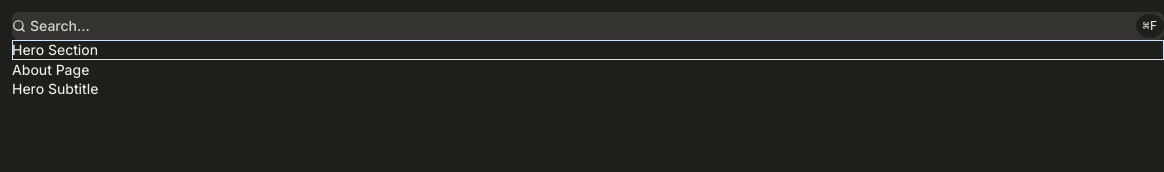
Scenario: Aria.Search integration › no matching query shows 0 items
Step 1. Type keys "{Control>}f{/Control}"
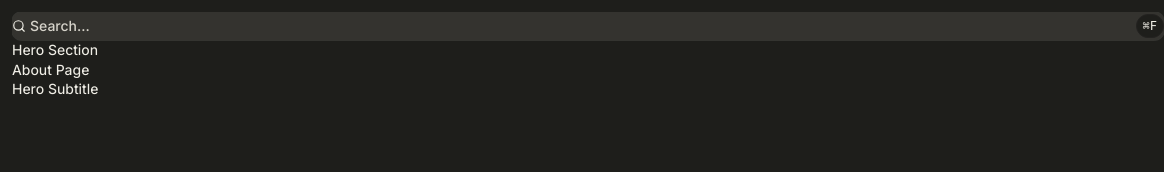
Step 2. Type "zzz" into the field with placeholder "Search..." → [581, 26], box top-left (30, 16), bottom-right (1132, 36)
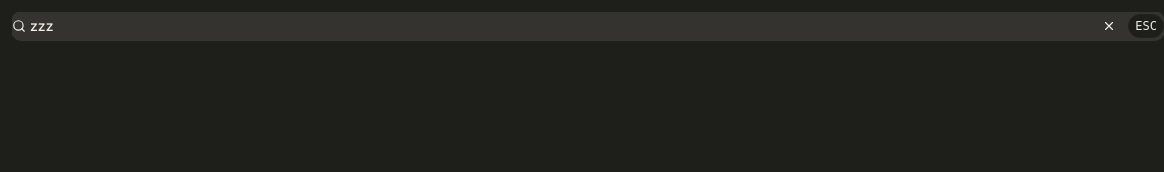
Expected: no options are shown
